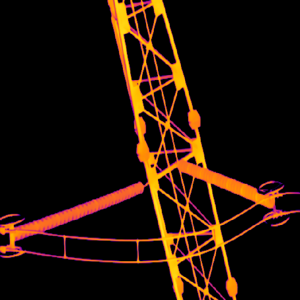insulator: (11, 177, 146, 238), (174, 156, 276, 208)
